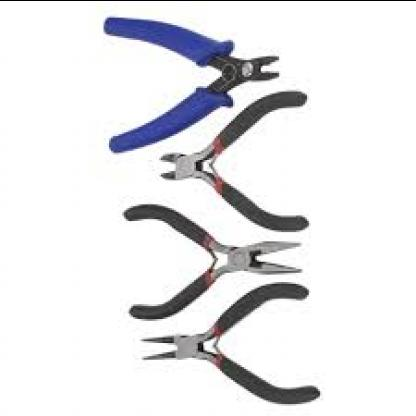Pliers: (98, 12, 282, 157), (136, 278, 324, 406), (154, 87, 312, 236), (118, 200, 306, 324)
